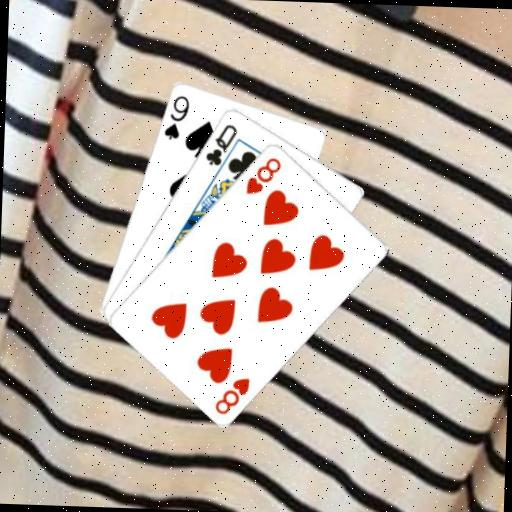8H: (242, 153, 282, 196), (211, 373, 251, 416)
9S: (160, 91, 191, 142)
QC: (202, 119, 239, 167)
